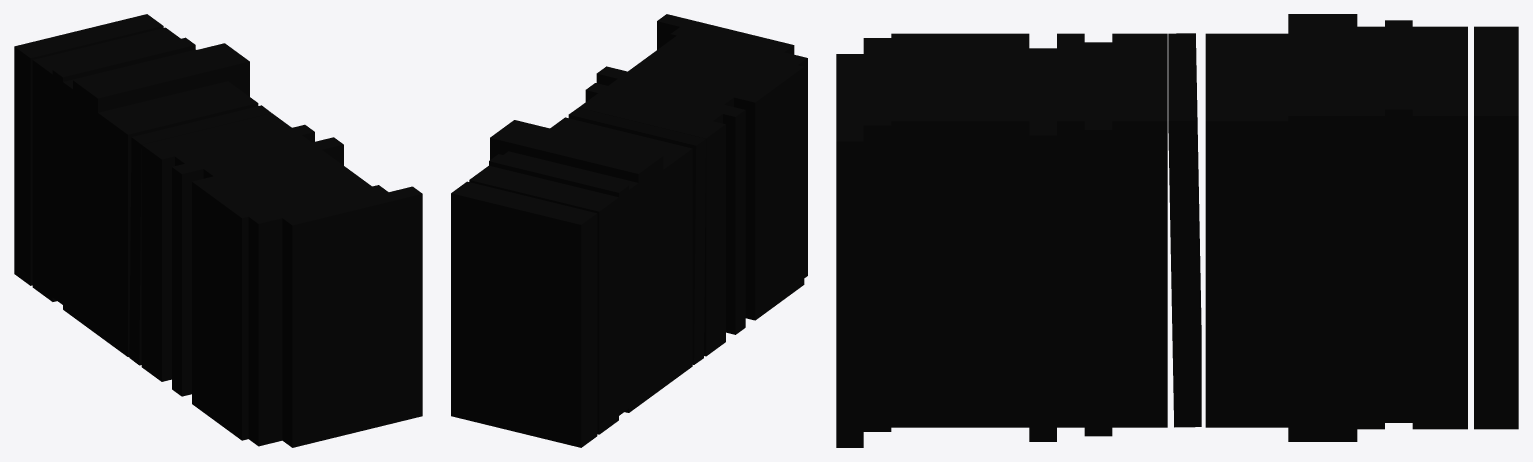
3 views of the same model, side by side, from view 1: azimuth 30°, elevation 25°; view 2: azimuth 150°, elevation 25°; view 3: azimuth 270°, elevation 25° (orthographic). The views are drawn at different scales.
Parts seen in each view (by area): view 1: Joint_0_Object_0, Joint_0_Object_2, Joint_0_Object_1; view 2: Joint_0_Object_0, Joint_0_Object_2, Joint_0_Object_1; view 3: Joint_0_Object_0, Joint_0_Object_2, Joint_0_Object_1.
Part boxes in pixels (x1=…): Joint_0_Object_0: x1=14, y1=14, x2=422, y2=447; Joint_0_Object_2: x1=21, y1=18, x2=195, y2=301; Joint_0_Object_1: x1=73, y1=43, x2=249, y2=112; Joint_0_Object_0: x1=451, y1=14, x2=807, y2=447; Joint_0_Object_2: x1=457, y1=151, x2=638, y2=434; Joint_0_Object_1: x1=490, y1=120, x2=662, y2=182; Joint_0_Object_0: x1=836, y1=26, x2=1518, y2=447; Joint_0_Object_2: x1=1357, y1=20, x2=1501, y2=429; Joint_0_Object_1: x1=1288, y1=14, x2=1357, y2=441.
Bounding box in the file's own units: 370 × 521 × 989.
Materials: 3 (3 with a texture image).
